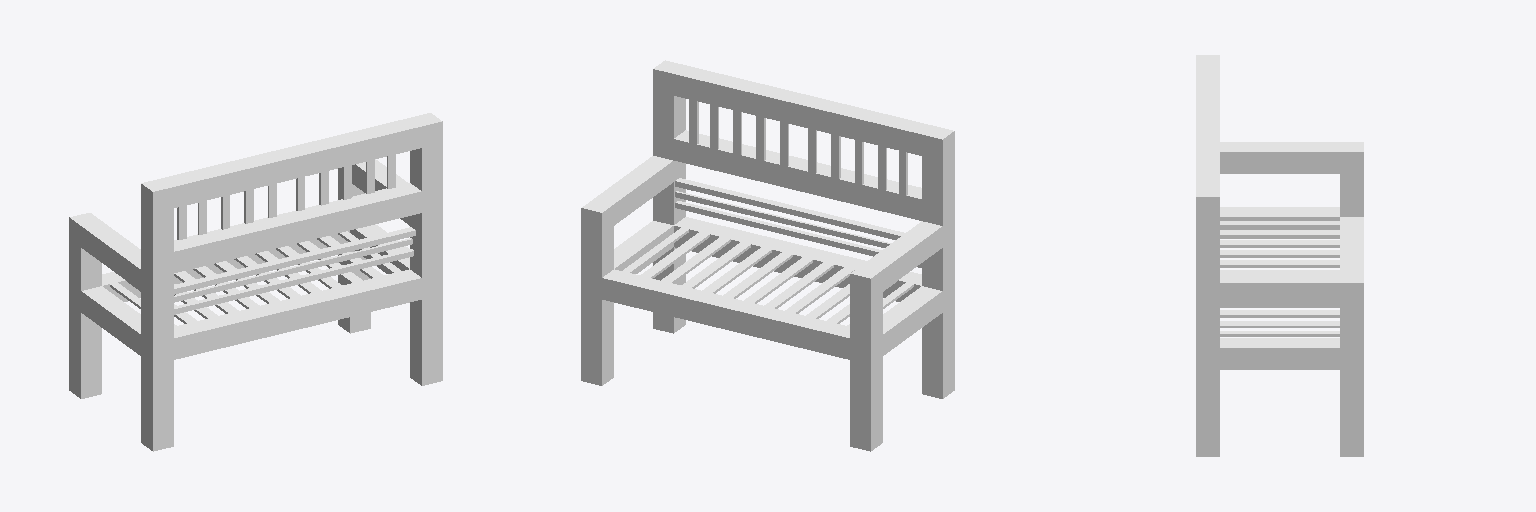
The model's file is Parkbank.obj.
3 views of the same model, side by side, from view 1: azimuth 30°, elevation 25°; view 2: azimuth 150°, elevation 25°; view 3: azimuth 270°, elevation 25° (orthographic).
Bounding box in the file's own units: 112 × 96 × 56.